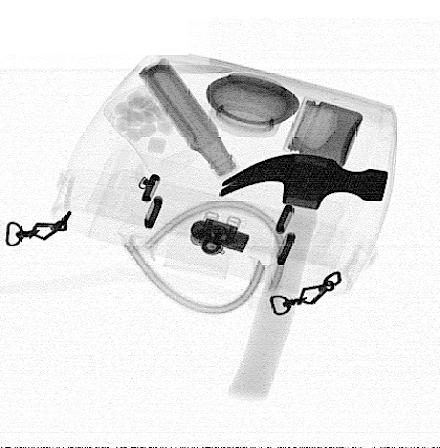Hammer: (217, 152, 388, 401)
